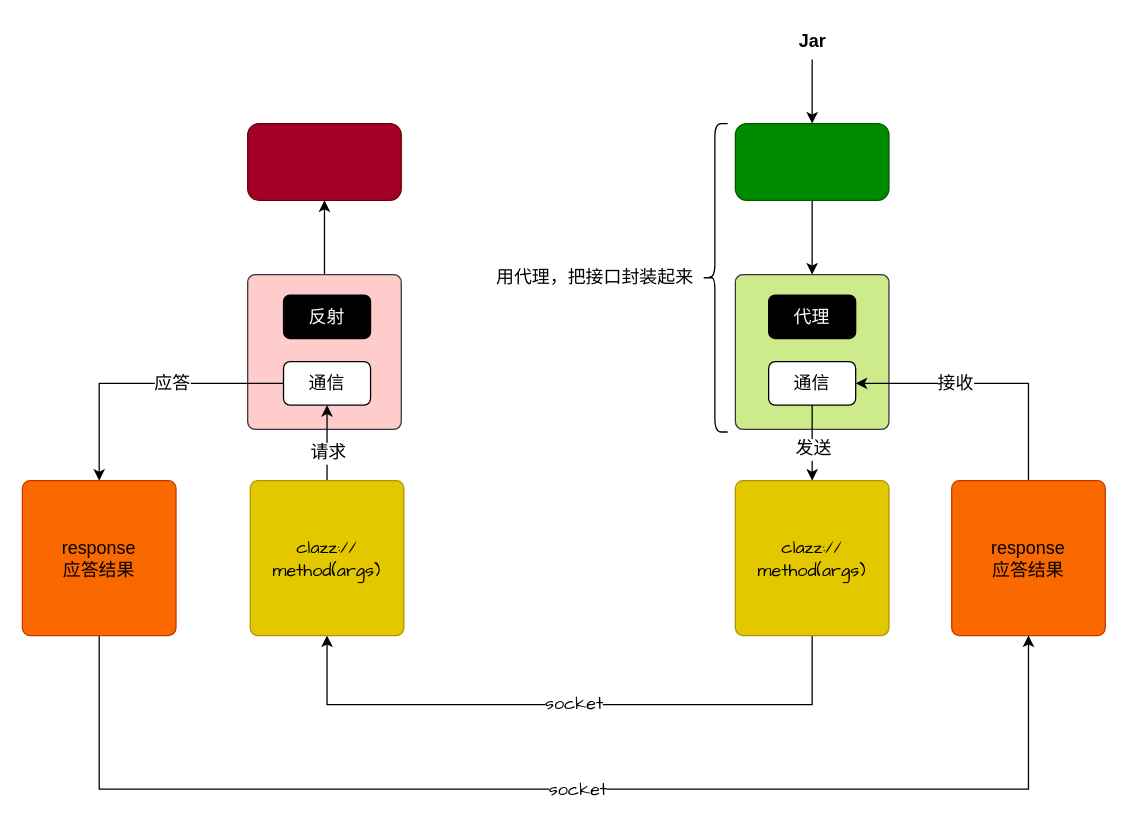
Image size: 1128x824. Some labels were removed from this diagram. The centre of each missing label's shape, as x and y in pixels:
"接口使用" belongs at [811,161].
"接口提供" belongs at [323,161].
